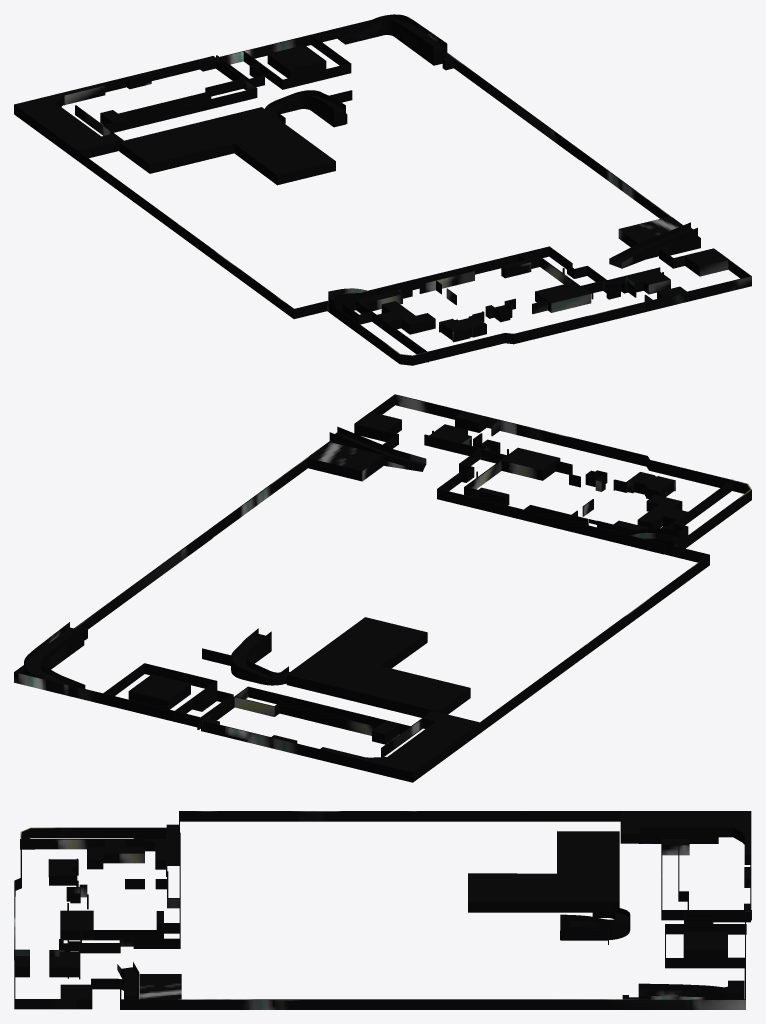
File: B1qiang.obj
3 renders of one model, top to bottom at view 1: azimuth 30°, elevation 25°; view 2: azimuth 150°, elevation 25°; view 3: azimuth 270°, elevation 25°, orthographic. The views are drawn at different scales.
Visible parts, largest first — view 1: B1qiang; view 2: B1qiang; view 3: B1qiang.
Part boxes in pixels (<box>): B1qiang: <box>14,14,751,365</box>; B1qiang: <box>14,394,751,782</box>; B1qiang: <box>14,811,751,1009</box>.
Size of the model in its own units: 253 by 12.35 by 419.
